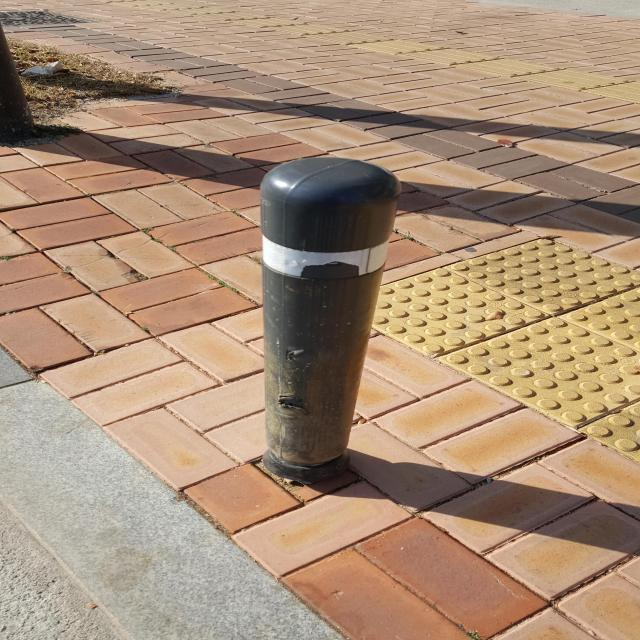pole: (253, 151, 392, 481)
